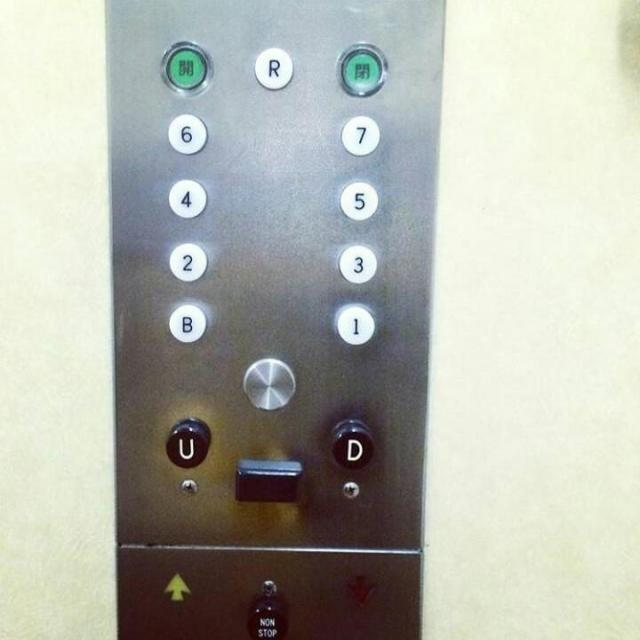1: (336, 304, 373, 344)
2: (169, 243, 205, 280)
3: (339, 244, 376, 282)
4: (167, 178, 205, 217)
5: (337, 180, 379, 218)
6: (167, 112, 207, 154)
7: (341, 115, 378, 154)
B: (169, 305, 204, 340)
D: (328, 421, 372, 470)
R: (251, 46, 293, 91)
U: (164, 421, 209, 467)
down: (342, 572, 376, 606)
empty: (235, 458, 303, 503), (241, 358, 296, 410)
text: (334, 42, 387, 98), (162, 41, 212, 94), (246, 599, 292, 639)
up: (159, 570, 192, 603)
